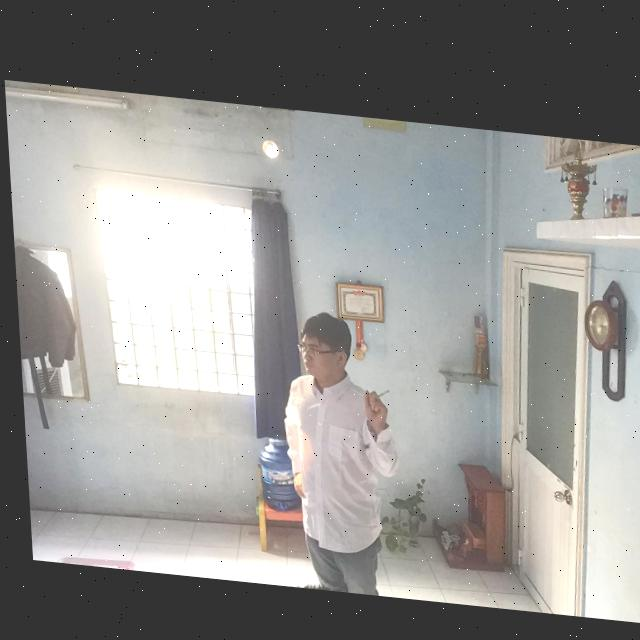cigarette: (370, 379, 387, 392)
